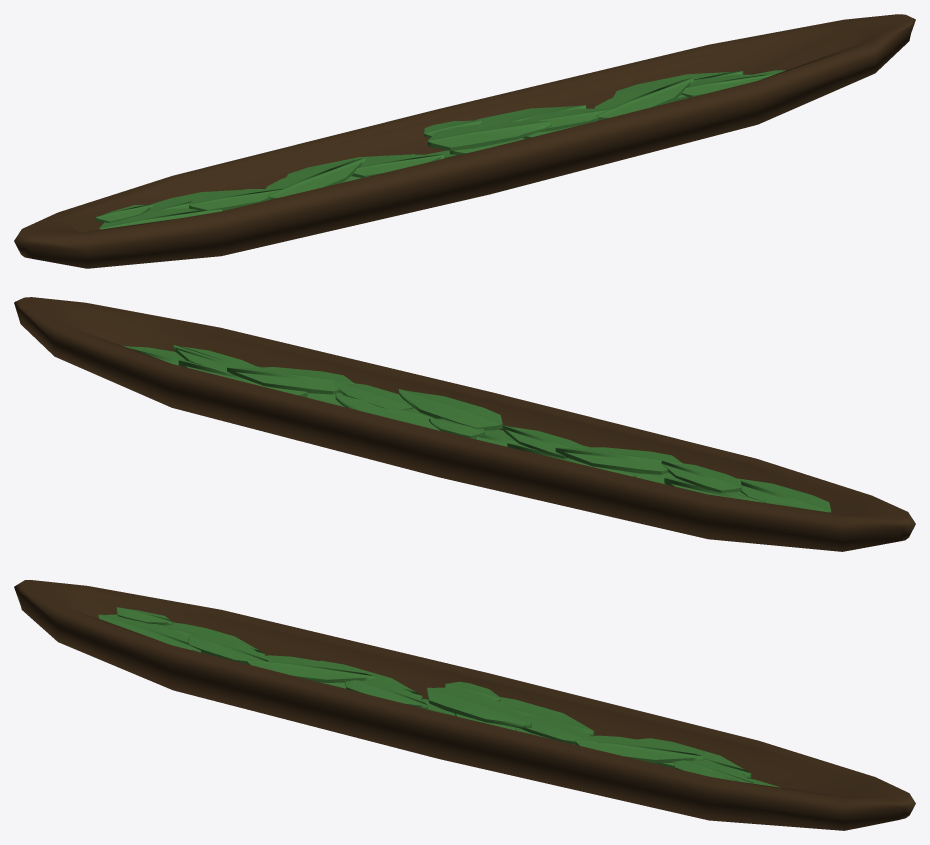
Rendered from marche2.gltf.
The picture shows the model from 3 angles, top to bottom: view 1: azimuth 30°, elevation 25°; view 2: azimuth 150°, elevation 25°; view 3: azimuth 330°, elevation 25°; orthographic projection.
Parts seen in each view (by area): view 1: Cube.046; view 2: Cube.046; view 3: Cube.046.
Part boxes in pixels (x1=…): Cube.046: x1=14, y1=14, x2=915, y2=268; Cube.046: x1=14, y1=297, x2=915, y2=551; Cube.046: x1=14, y1=580, x2=915, y2=830.
Size of the model in its own units: 8.07 by 0.4815 by 0.8489.
